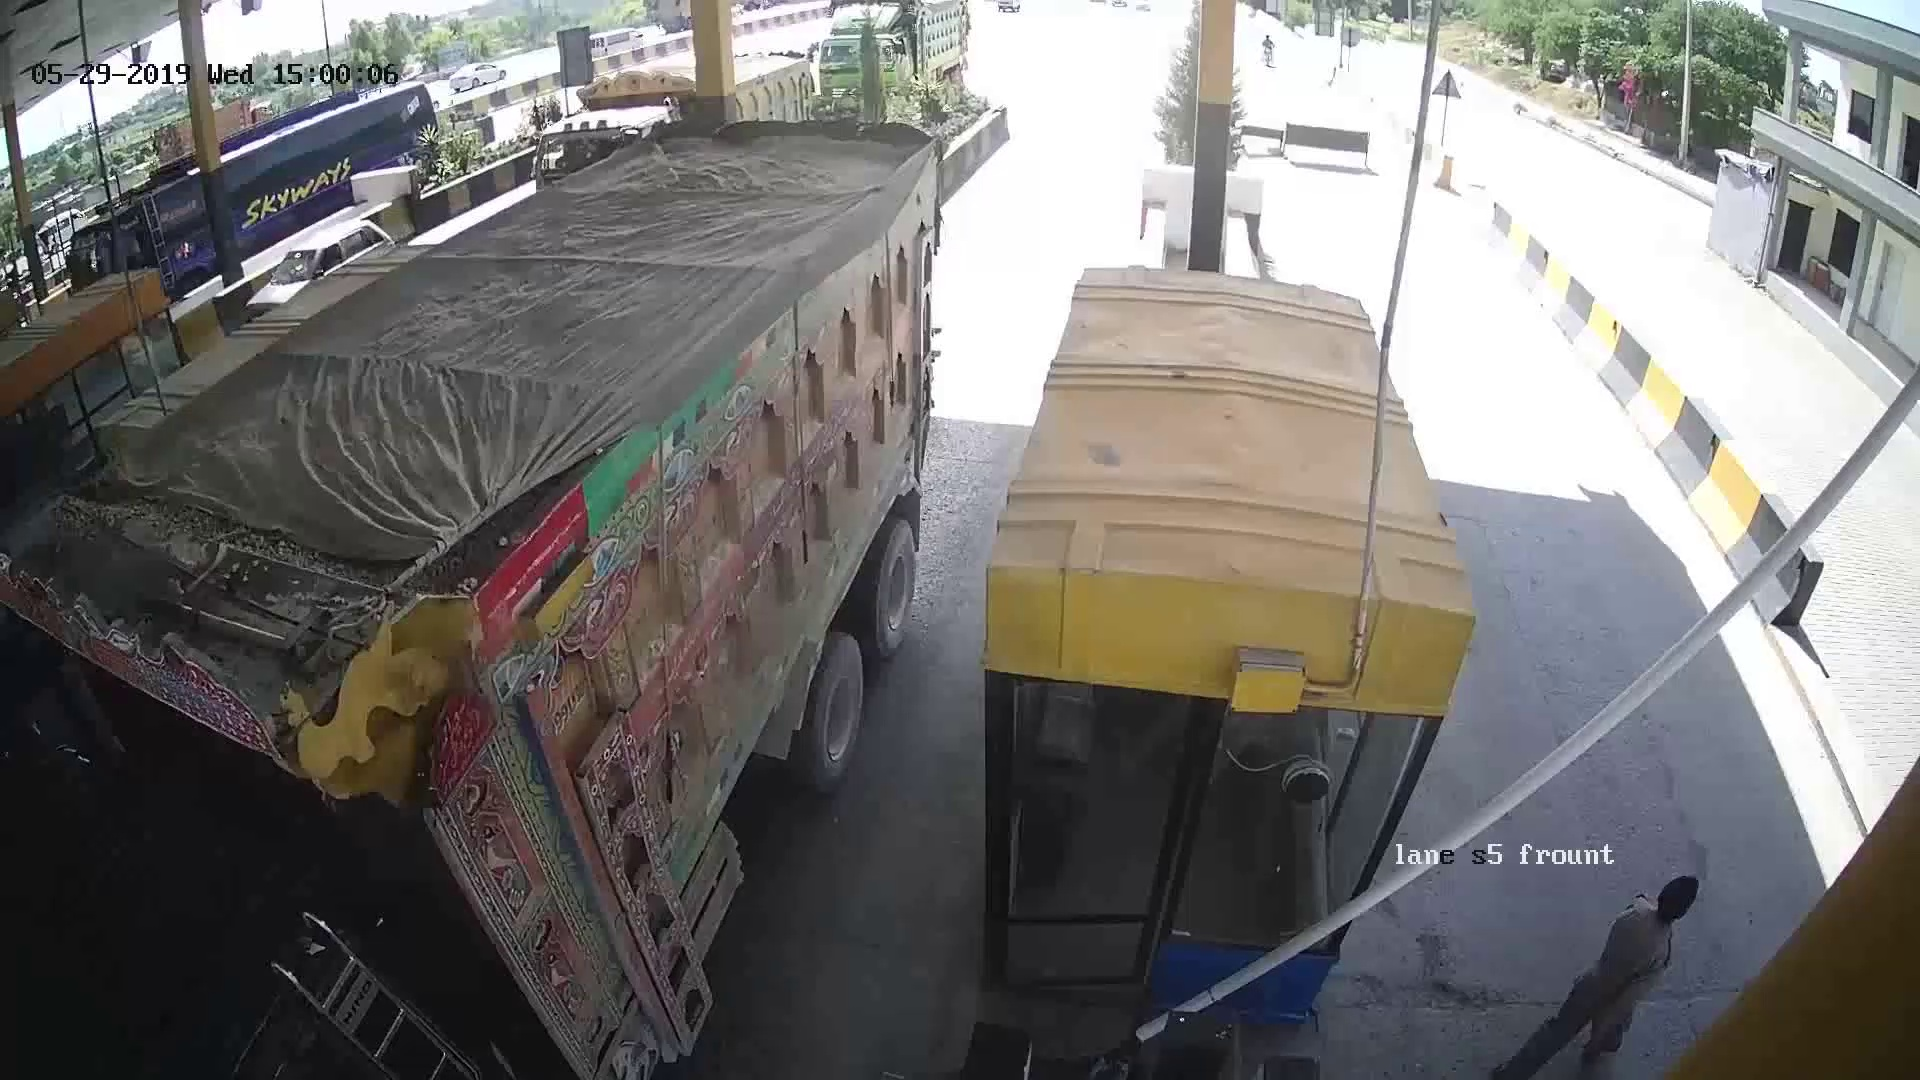truck: (258, 158, 884, 986)
